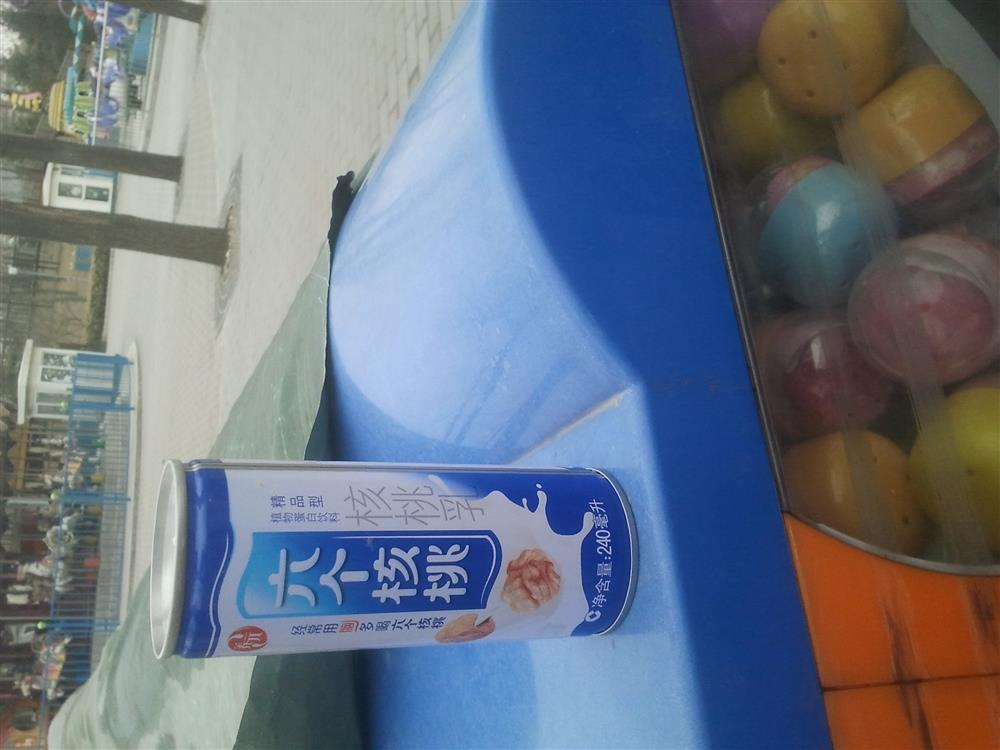Six_walnut: (149, 433, 649, 672)
